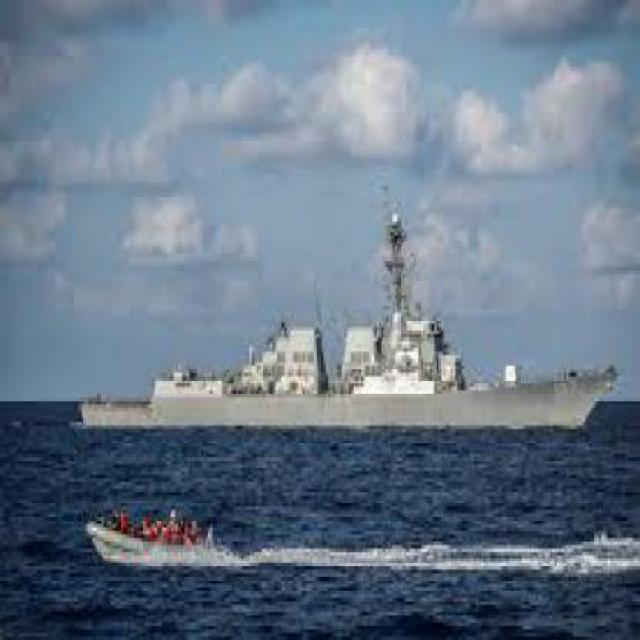warship2: (43, 166, 623, 444)
